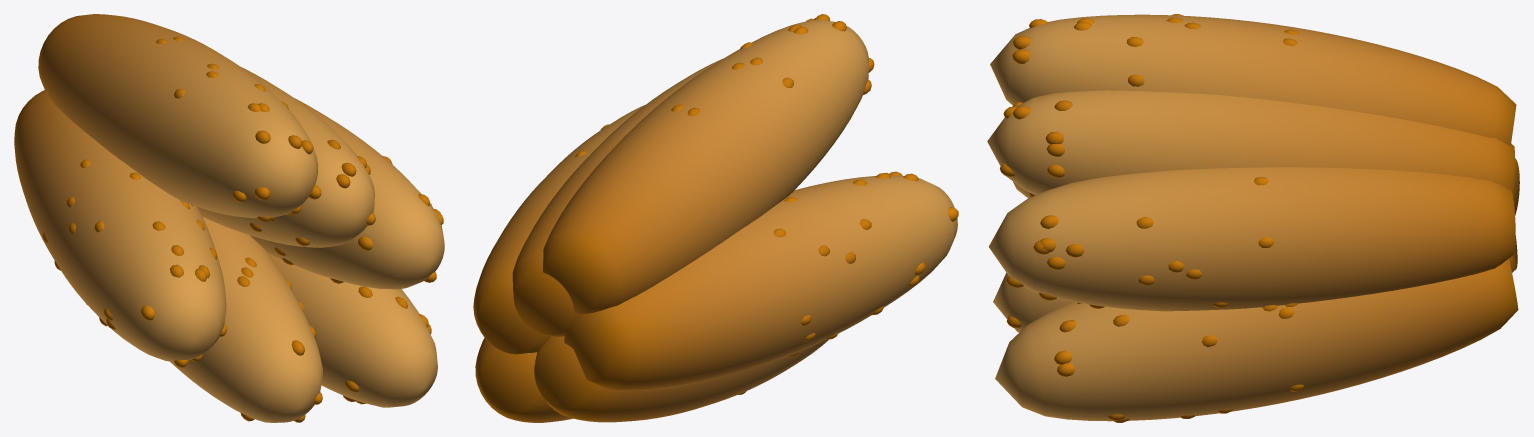
The model's file is cordyceps-militaris.glb.
3 views of the same model, side by side, from view 1: azimuth 30°, elevation 25°; view 2: azimuth 150°, elevation 25°; view 3: azimuth 270°, elevation 25° (orthographic). The views are drawn at different scales.
Parts seen in each view (by area): view 1: clavate_stroma, perithecia; view 2: clavate_stroma, perithecia; view 3: clavate_stroma, perithecia.
Part boxes in pixels (x1,y1,x2,y2): clavate_stroma: (14,14,444,422); perithecia: (42,36,443,422); clavate_stroma: (473,19,957,422); perithecia: (575,14,958,394); clavate_stroma: (987,14,1519,421); perithecia: (1000,14,1304,422).
Size of the model in its own units: 1.42 by 1.42 by 2.02.
